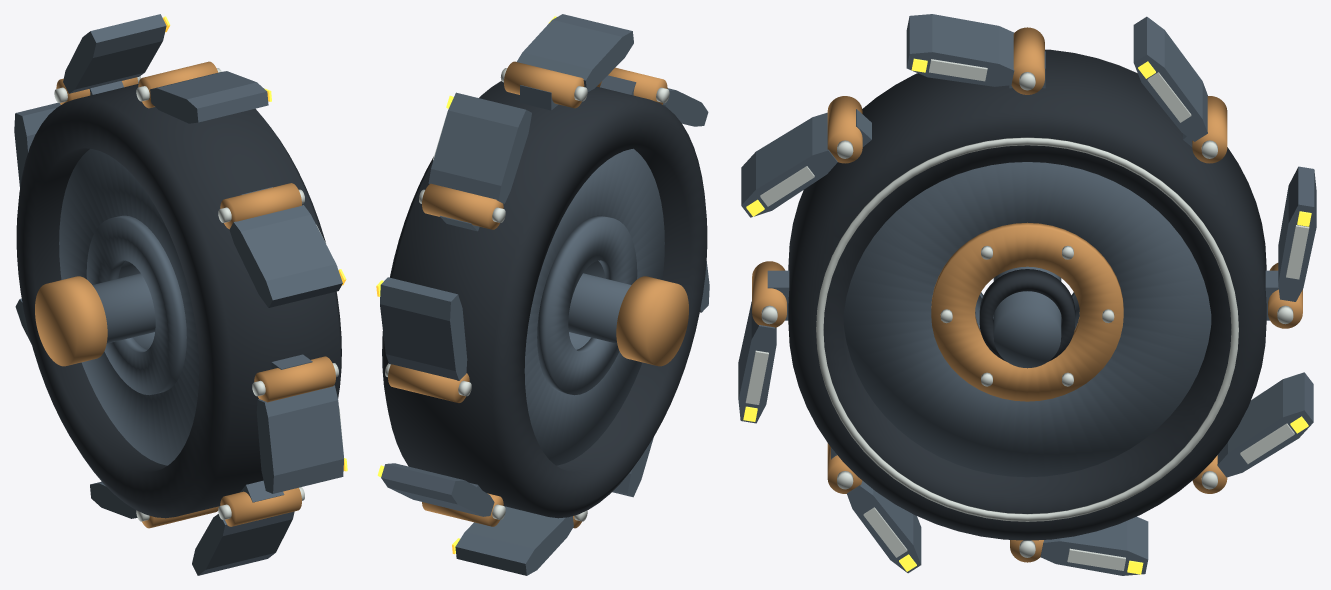
File: M02-005_animated.glb
3 renders of one model, left to right at view 1: azimuth 30°, elevation 25°; view 2: azimuth 150°, elevation 25°; view 3: azimuth 270°, elevation 25°, orthographic. The views are drawn at different scales.
Parts seen in each view (by area): view 1: M02-005_rubber_rolling_hoop, M02-005_steel_web_open_bore, M02-005_rear_hub_steel, M02-005_folding_paddle_03, M02-005_folding_paddle_04, M02-005_mount_side_flange, M02-005_folding_paddle_01, M02-005_folding_paddle_02, M02-005_folding_paddle_05, M02-005_stationary_axle, M02-005_hinge_barrel_04, M02-005_hinge_barrel_03 (+6 smaller); view 2: M02-005_rubber_rolling_hoop, M02-005_steel_web_open_bore, M02-005_rear_hub_steel, M02-005_folding_paddle_01, M02-005_folding_paddle_00, M02-005_mount_side_flange, M02-005_folding_paddle_02, M02-005_folding_paddle_06, M02-005_folding_paddle_07, M02-005_stationary_axle, M02-005_hinge_barrel_01, M02-005_hinge_barrel_02 (+7 smaller); view 3: M02-005_rubber_rolling_hoop, M02-005_steel_web_open_bore, M02-005_front_hub_copper, M02-005_front_rim_ceramic_stripe, M02-005_folding_paddle_02, M02-005_folding_paddle_03, M02-005_stationary_axle, M02-005_folding_paddle_07, M02-005_folding_paddle_01, M02-005_folding_paddle_06, M02-005_stationary_dust_seal, M02-005_folding_paddle_00 (+15 smaller).
Part boxes in pixels (x1,y1,x2,y2): M02-005_rubber_rolling_hoop: (16,84,341,518); M02-005_steel_web_open_bore: (59,148,199,465); M02-005_rear_hub_steel: (86,215,186,395); M02-005_folding_paddle_03: (229,205,342,307); M02-005_folding_paddle_04: (256,385,343,493); M02-005_mount_side_flange: (35,276,107,366); M02-005_folding_paddle_01: (63,14,166,93); M02-005_folding_paddle_02: (150,71,268,123); M02-005_folding_paddle_05: (192,511,294,575); M02-005_stationary_axle: (92,273,155,343); M02-005_hinge_barrel_04: (254,356,335,402); M02-005_hinge_barrel_03: (220,183,301,229); M02-005_rubber_rolling_hoop: (382,81,707,518); M02-005_steel_web_open_bore: (524,148,664,465); M02-005_rear_hub_steel: (537,215,637,395); M02-005_folding_paddle_01: (428,92,531,203); M02-005_folding_paddle_00: (380,277,467,380); M02-005_mount_side_flange: (616,276,688,366); M02-005_folding_paddle_02: (516,14,633,91); M02-005_folding_paddle_06: (455,506,573,575); M02-005_folding_paddle_07: (381,463,494,516); M02-005_stationary_axle: (568,273,631,343); M02-005_hinge_barrel_01: (422,183,503,229); M02-005_hinge_barrel_02: (504,61,584,108); M02-005_rubber_rolling_hoop: (788,49,1266,540); M02-005_steel_web_open_bore: (843,162,1211,477); M02-005_front_hub_copper: (931,222,1123,401); M02-005_front_rim_ceramic_stripe: (816,137,1238,521); M02-005_folding_paddle_02: (906,14,1014,86); M02-005_folding_paddle_03: (741,112,837,217); M02-005_stationary_axle: (993,266,1061,368); M02-005_folding_paddle_07: (1217,372,1313,477); M02-005_folding_paddle_01: (1133,16,1207,141); M02-005_folding_paddle_06: (1040,516,1148,575); M02-005_stationary_dust_seal: (979,269,1075,361); M02-005_folding_paddle_00: (1278,166,1316,301).
Size of the model in its own units: 0.385 by 0.8584 by 0.8584.
